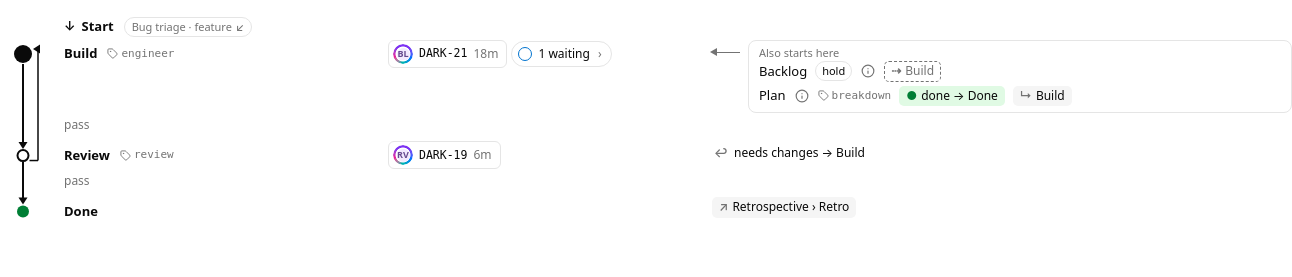
Test: the selected Task's strip (vf-7) › × clears the selection and returns the focus to the chip
This screenshot has width=1292, height=277.
Click the button "BL DARK-21 18m". click: (448, 54)
box: [388,40,507,68]
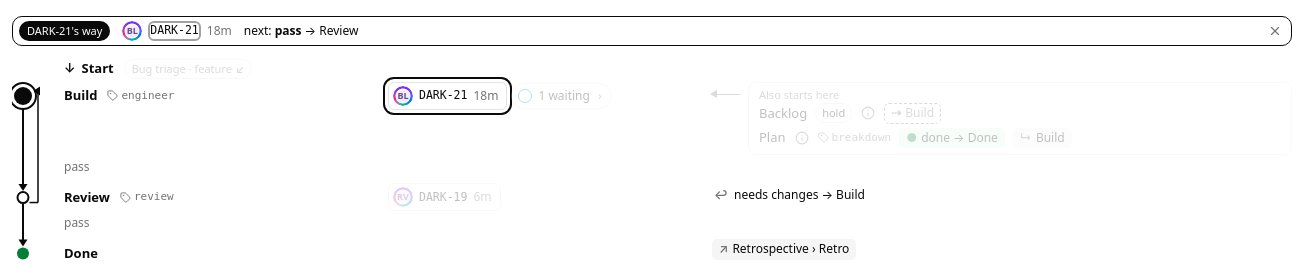
Click the button named "Clear". click: (1275, 31)
box: [1263,19,1287,43]
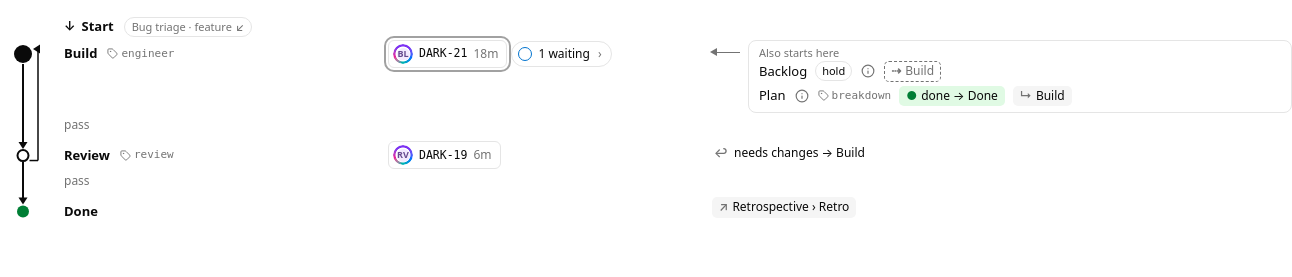
Check: the text "DARK-21's way" is gone
